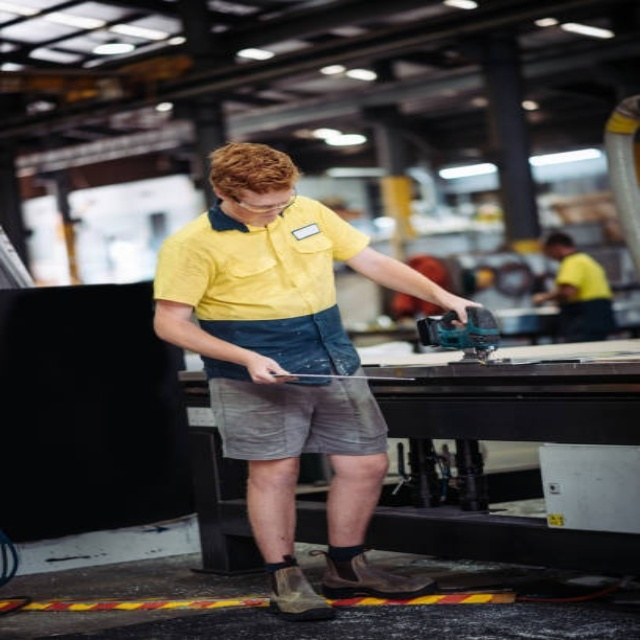Gafas: (231, 186, 298, 213)
Sin_guantes: (243, 349, 300, 388), (441, 297, 486, 329)
